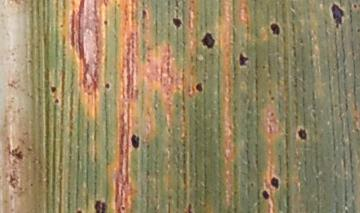tarspot: (330, 2, 345, 28), (201, 30, 214, 48), (237, 50, 250, 68), (95, 199, 108, 213), (130, 134, 141, 150), (269, 22, 281, 36), (269, 176, 280, 190), (193, 80, 204, 93), (297, 127, 308, 140), (171, 17, 182, 28), (139, 8, 148, 19), (262, 188, 270, 200), (187, 201, 193, 213), (102, 82, 111, 89), (269, 93, 276, 102), (50, 86, 57, 94), (120, 204, 128, 211), (52, 98, 60, 103), (75, 208, 83, 213), (103, 19, 109, 25), (353, 3, 358, 9), (356, 27, 360, 32)
